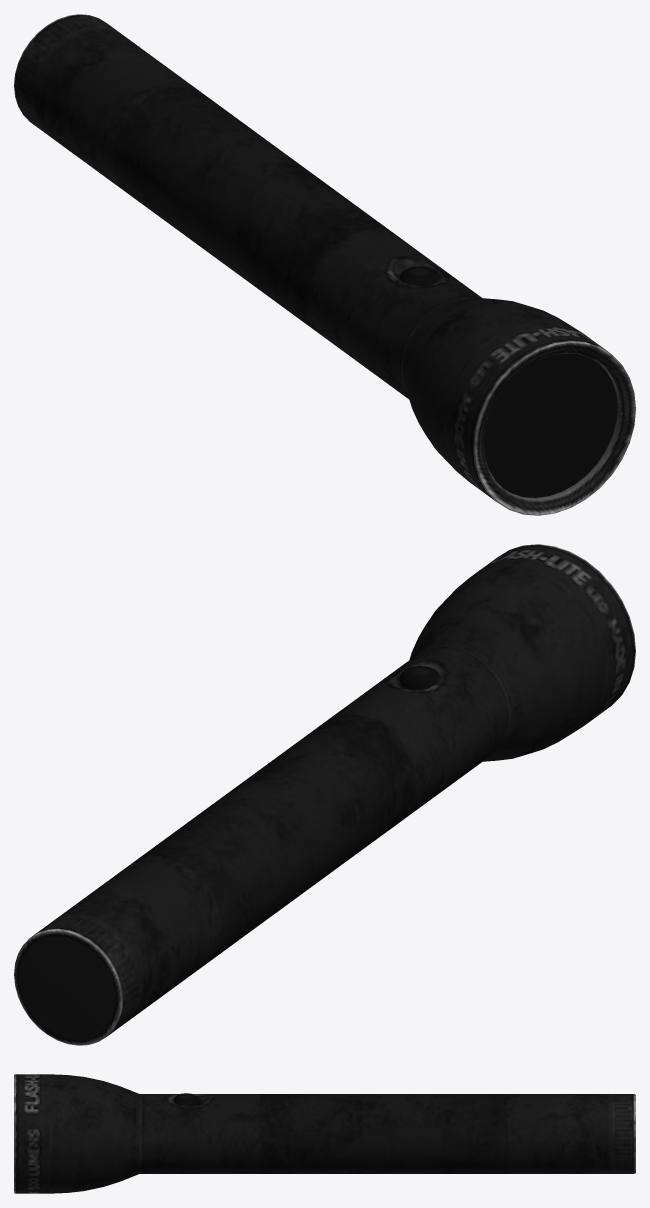
The model's file is flash light.fbx.
3 views of the same model, one above another, from view 1: azimuth 30°, elevation 25°; view 2: azimuth 150°, elevation 25°; view 3: azimuth 270°, elevation 25° (orthographic). The views are drawn at different scales.
Visible parts, largest first — view 1: Cube.012_FlashlightBody_0, Cube.012_FlashlightGlass_0; view 2: Cube.012_FlashlightBody_0; view 3: Cube.012_FlashlightBody_0.
Boxes of the visible parts, x1=… form: Cube.012_FlashlightBody_0: x1=14, y1=14, x2=635, y2=515; Cube.012_FlashlightGlass_0: x1=483, y1=353, x2=617, y2=497; Cube.012_FlashlightBody_0: x1=14, y1=544, x2=635, y2=1045; Cube.012_FlashlightBody_0: x1=14, y1=1074, x2=635, y2=1193.
Size of the model in its own units: 0.057 by 0.057 by 0.2969.
Materials: 2 (2 with a texture image).
